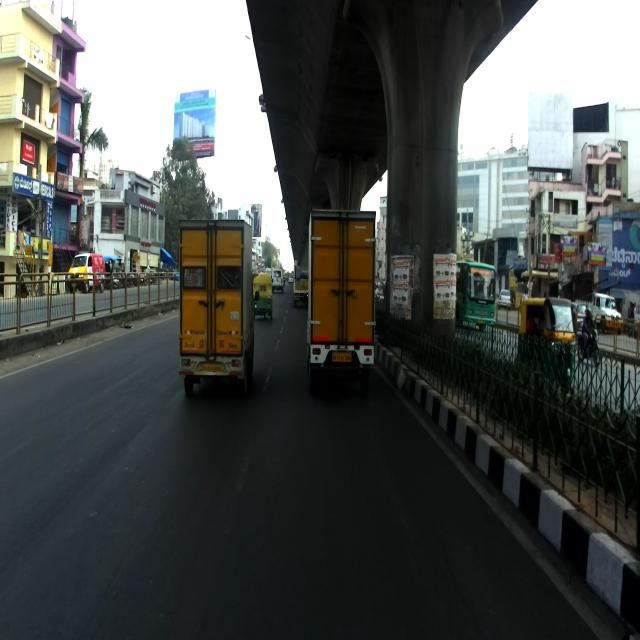truck ahead at: (301, 204, 382, 406), (175, 212, 253, 404)
